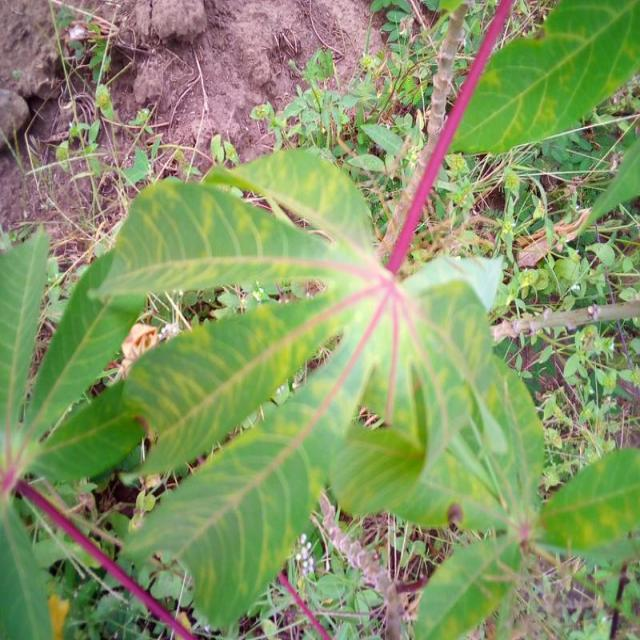cassava leaf: (4, 1, 638, 637), (442, 0, 638, 156)
